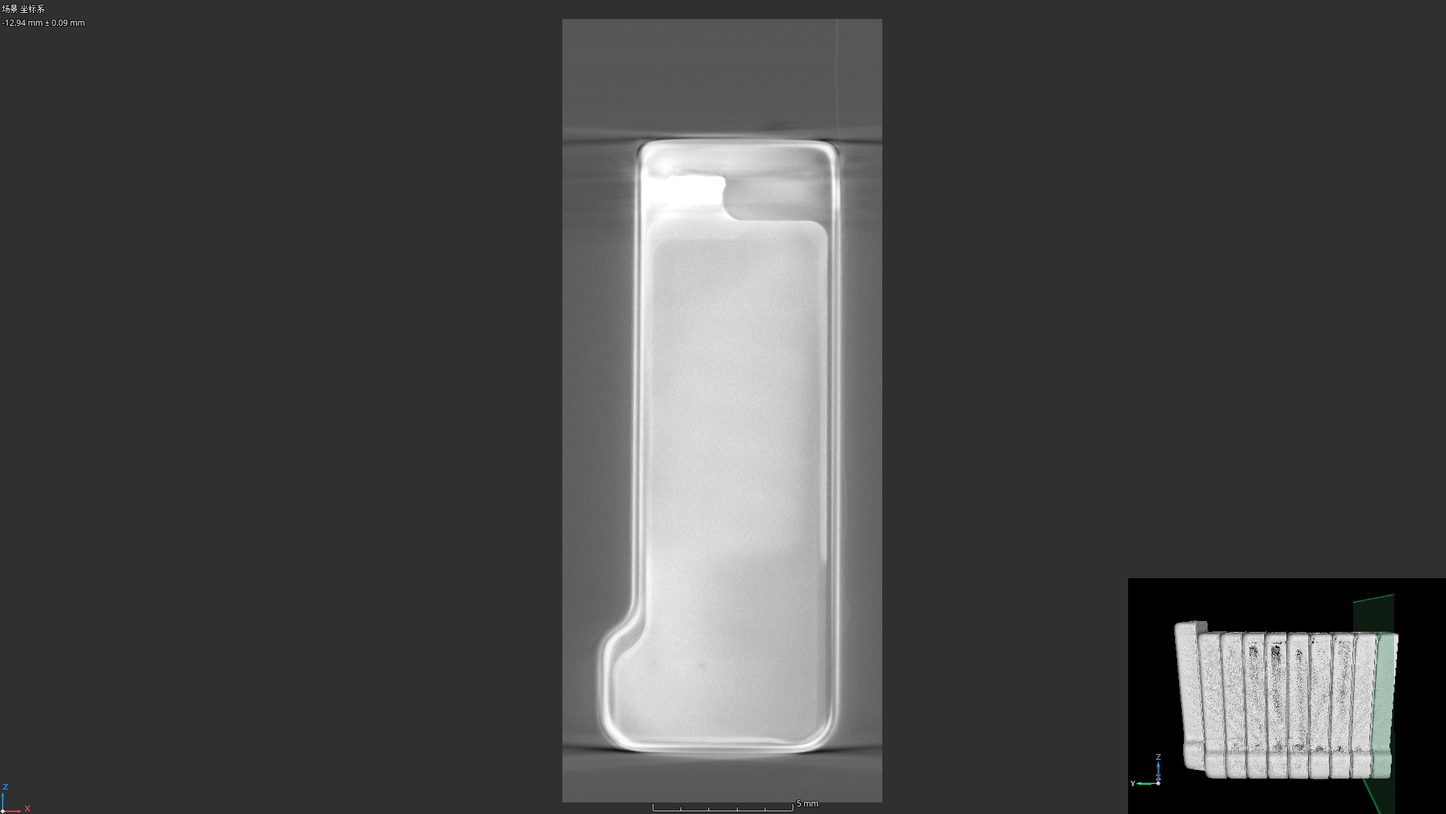dark: (691, 656, 708, 673)
